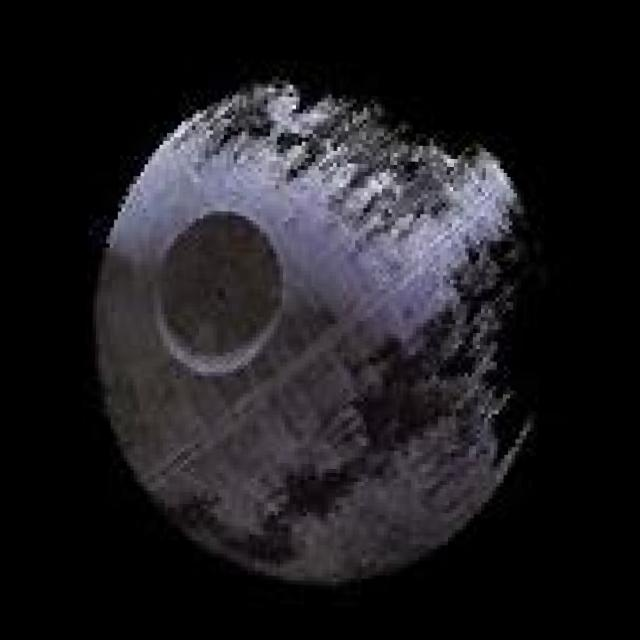Death Star: (76, 60, 552, 600)
